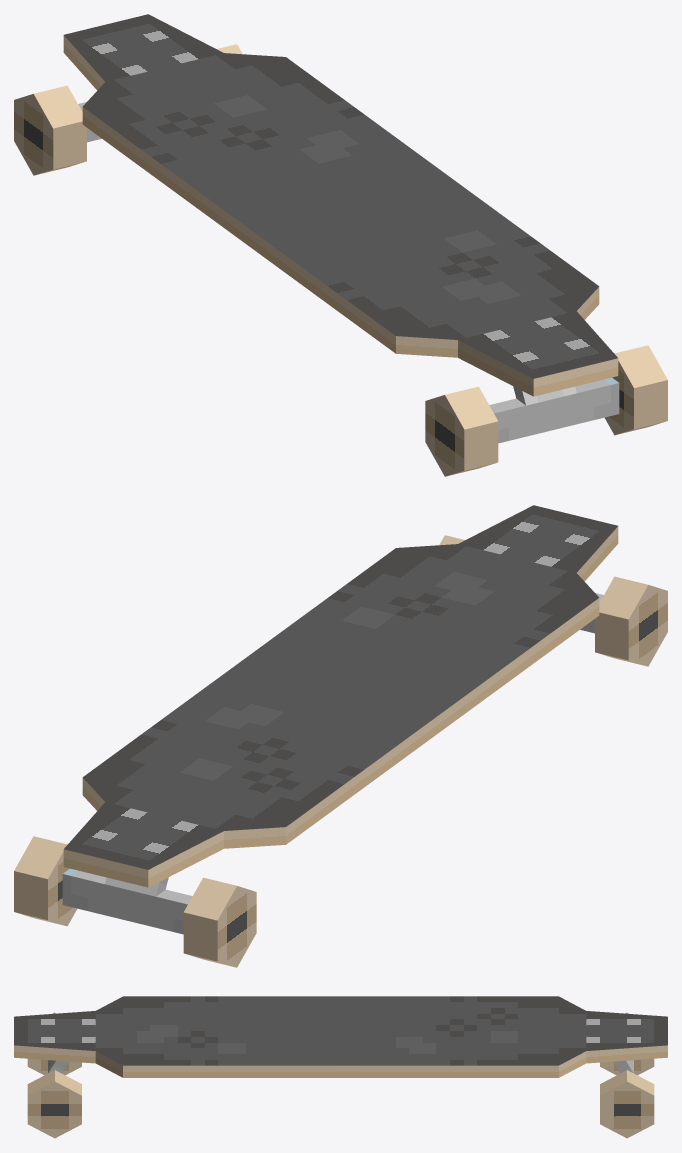
The model's file is Longboard.fbx.
The picture shows the model from 3 angles, top to bottom: view 1: azimuth 30°, elevation 25°; view 2: azimuth 150°, elevation 25°; view 3: azimuth 270°, elevation 25°; orthographic projection. The views are drawn at different scales.
Parts seen in each view (by area): view 1: body, wheel2, wheel3, attachment1, wheel1; view 2: body, wheel3, wheel2, attachment2, wheel4; view 3: body, wheel1, wheel4, wheel2, wheel3.
Part boxes in pixels (bbox=[...]): body: bbox=[63, 14, 618, 396]; wheel2: bbox=[425, 386, 498, 476]; wheel3: bbox=[14, 85, 86, 175]; attachment1: bbox=[489, 377, 619, 443]; wheel1: bbox=[605, 345, 667, 435]; body: bbox=[63, 505, 618, 887]; wheel3: bbox=[183, 877, 256, 967]; wheel2: bbox=[595, 576, 667, 666]; attachment2: bbox=[62, 868, 192, 934]; wheel4: bbox=[14, 836, 76, 926]; body: bbox=[14, 996, 667, 1077]; wheel1: bbox=[27, 1070, 81, 1138]; wheel4: bbox=[600, 1070, 654, 1138]; wheel2: bbox=[27, 1012, 81, 1075]; wheel3: bbox=[600, 1012, 654, 1075].
Size of the model in its own units: 37.5 by 18.47 by 150.
1 material, 1 textured.
